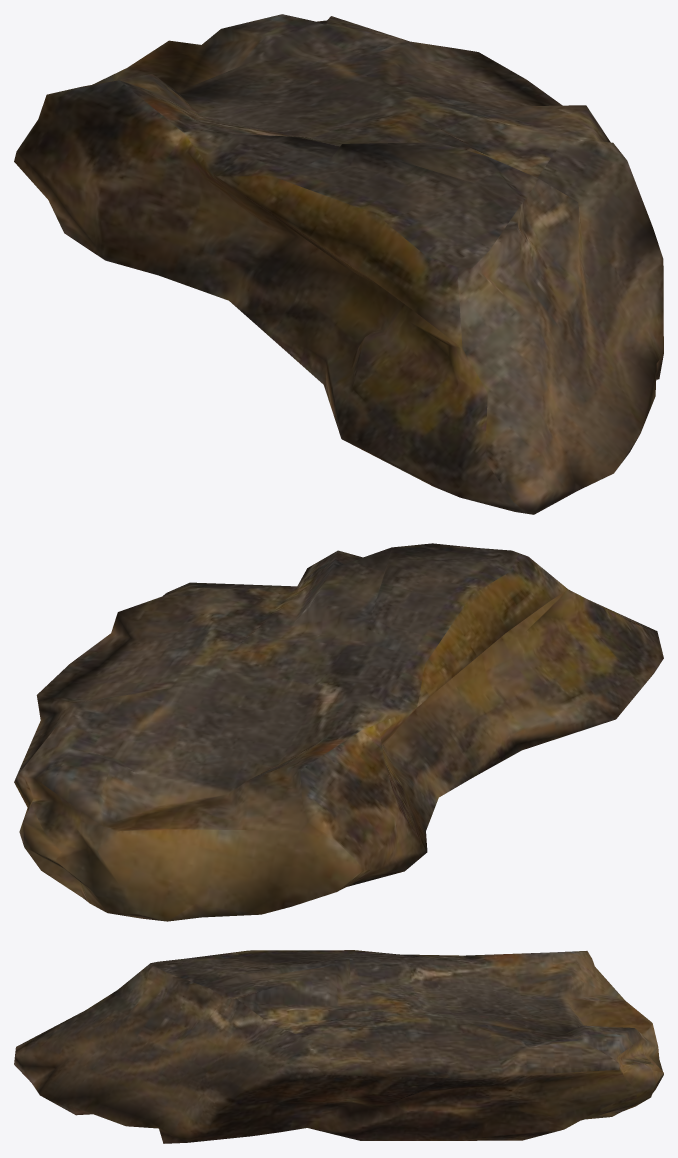
File: pebble.glb
3 renders of one model, top to bottom at view 1: azimuth 30°, elevation 25°; view 2: azimuth 150°, elevation 25°; view 3: azimuth 270°, elevation 25°, orthographic. The views are drawn at different scales.
Parts seen in each view (by area): view 1: rock_09_LOD0; view 2: rock_09_LOD0; view 3: rock_09_LOD0.
Part boxes in pixels (x1,y1,x2,y2): rock_09_LOD0: [14, 14, 663, 514]; rock_09_LOD0: [14, 543, 663, 921]; rock_09_LOD0: [14, 950, 663, 1143].
Bounding box in the file's own units: 0.0738 × 0.0317 × 0.1444.
Materials: 1 (1 with a texture image).
